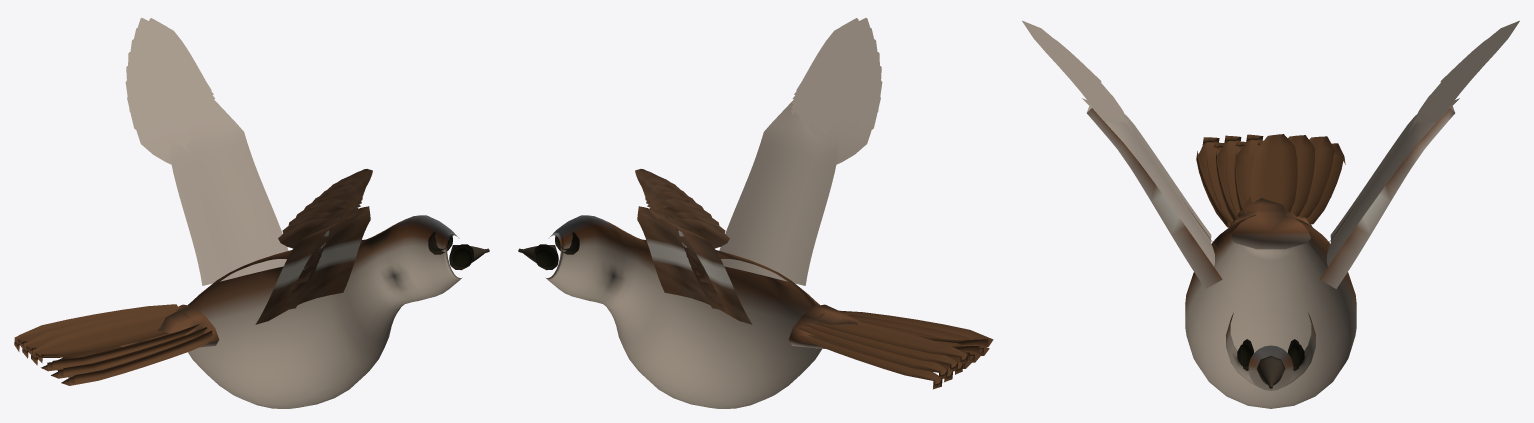
The model's file is SM_Bird_sparrow_flap0.glb.
3 renders of one model, left to right at view 1: azimuth 30°, elevation 25°; view 2: azimuth 150°, elevation 25°; view 3: azimuth 270°, elevation 25°, orthographic. The views are drawn at different scales.
Visible parts, largest first — view 1: SM_Bird_sparrow_flap0; view 2: SM_Bird_sparrow_flap0; view 3: SM_Bird_sparrow_flap0.
Boxes of the visible parts, x1,y1,x2,y2 form: SM_Bird_sparrow_flap0: (14,18,489,408); SM_Bird_sparrow_flap0: (518,18,993,408); SM_Bird_sparrow_flap0: (1022,20,1519,408).
Size of the model in its own units: 0.1703 by 0.116 by 0.1457.
